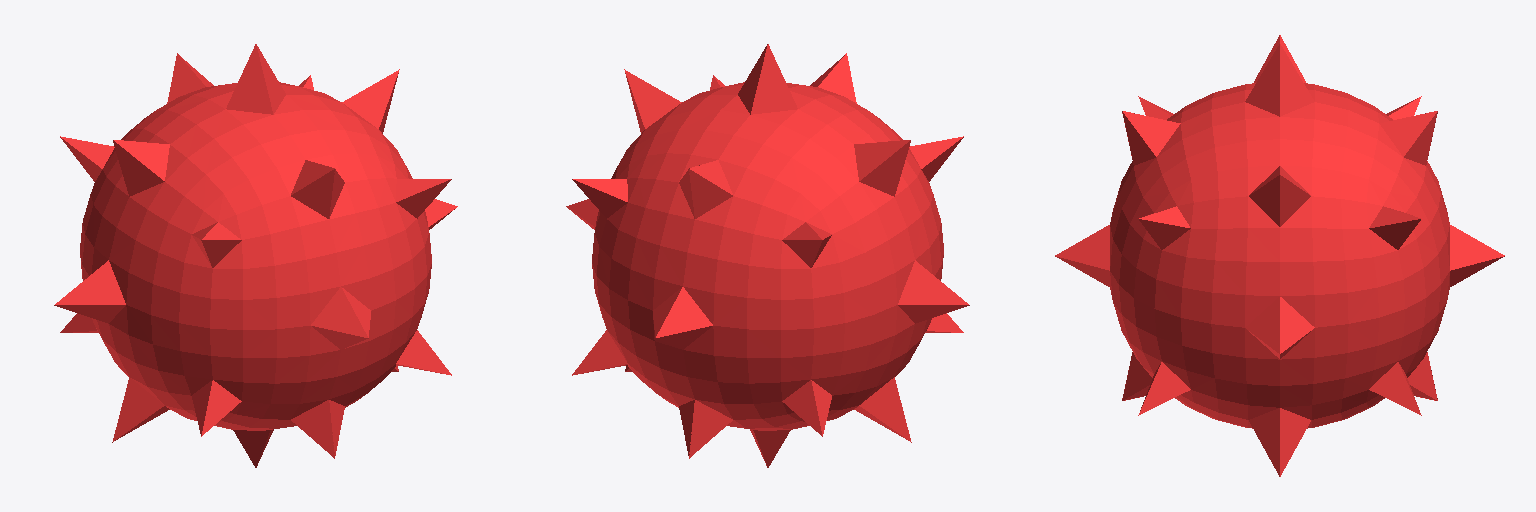
3 views of the same model, side by side, from view 1: azimuth 30°, elevation 25°; view 2: azimuth 150°, elevation 25°; view 3: azimuth 270°, elevation 25° (orthographic).
Visible parts, largest first — view 1: 立方体_立方体.004; view 2: 立方体_立方体.004; view 3: 立方体_立方体.004.
Part boxes in pixels (bbox=[...]): 立方体_立方体.004: bbox=[54, 44, 457, 467]; 立方体_立方体.004: bbox=[566, 44, 969, 467]; 立方体_立方体.004: bbox=[1055, 35, 1504, 476].
Size of the model in its own units: 2.27 by 2.28 by 2.19.
Materials: 1 (1 with a texture image).